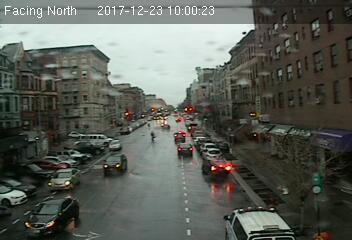car: (23, 196, 81, 236), (46, 167, 82, 190), (201, 158, 234, 179), (101, 153, 127, 174), (202, 146, 228, 160), (177, 142, 194, 156), (108, 139, 121, 150), (173, 131, 186, 142)
police: (220, 203, 302, 240)
